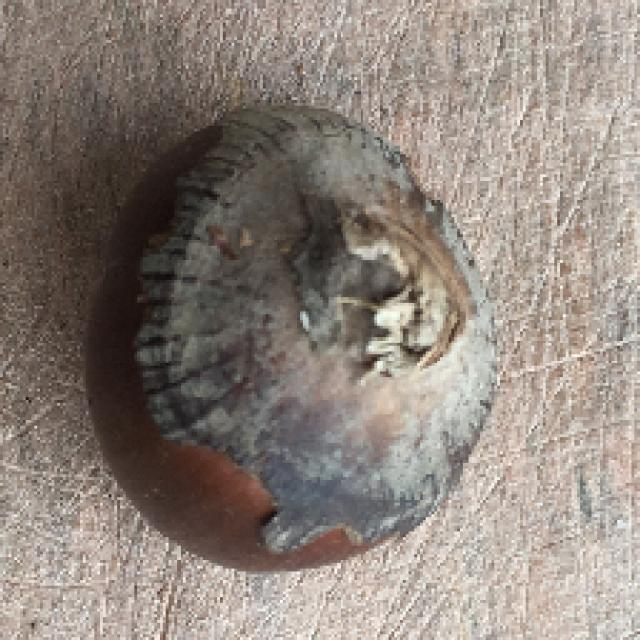damagedHazelnut: (83, 106, 493, 575)
